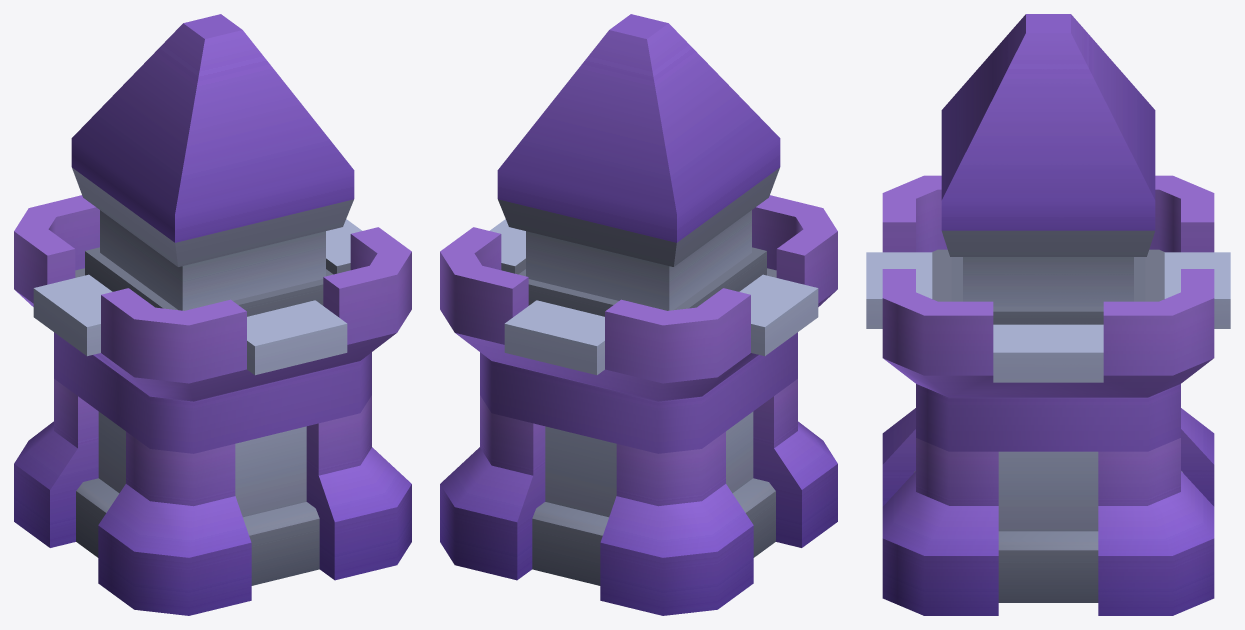
Rendered from kenney-tower-defense-tower-square-build-e.glb.
3 views of the same model, side by side, from view 1: azimuth 30°, elevation 25°; view 2: azimuth 150°, elevation 25°; view 3: azimuth 270°, elevation 25° (orthographic). The views are drawn at different scales.
Visible parts, largest first — view 1: tower-square-build-e; view 2: tower-square-build-e; view 3: tower-square-build-e.
Boxes of the visible parts, <box> form: tower-square-build-e: <box>14,14,411,615</box>; tower-square-build-e: <box>440,14,837,615</box>; tower-square-build-e: <box>866,14,1230,615</box>.
Bounding box in the file's own units: 1.1 × 1.74 × 1.1.
Materials: 1 (1 with a texture image).
